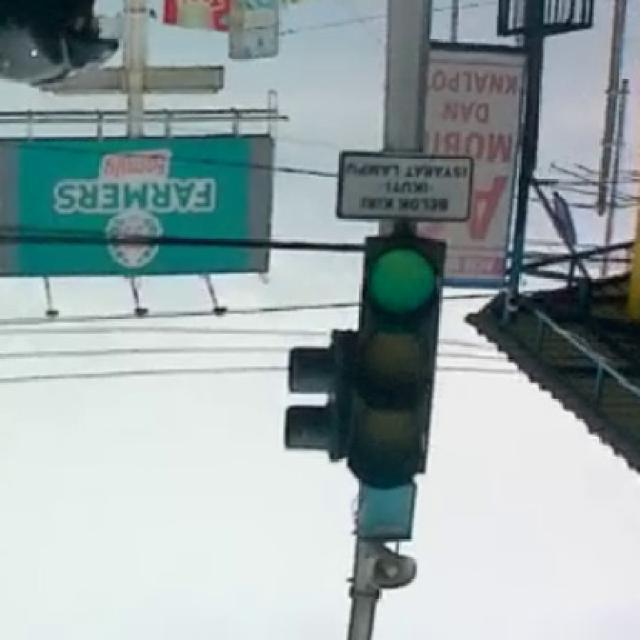green_light: (286, 233, 443, 637)
